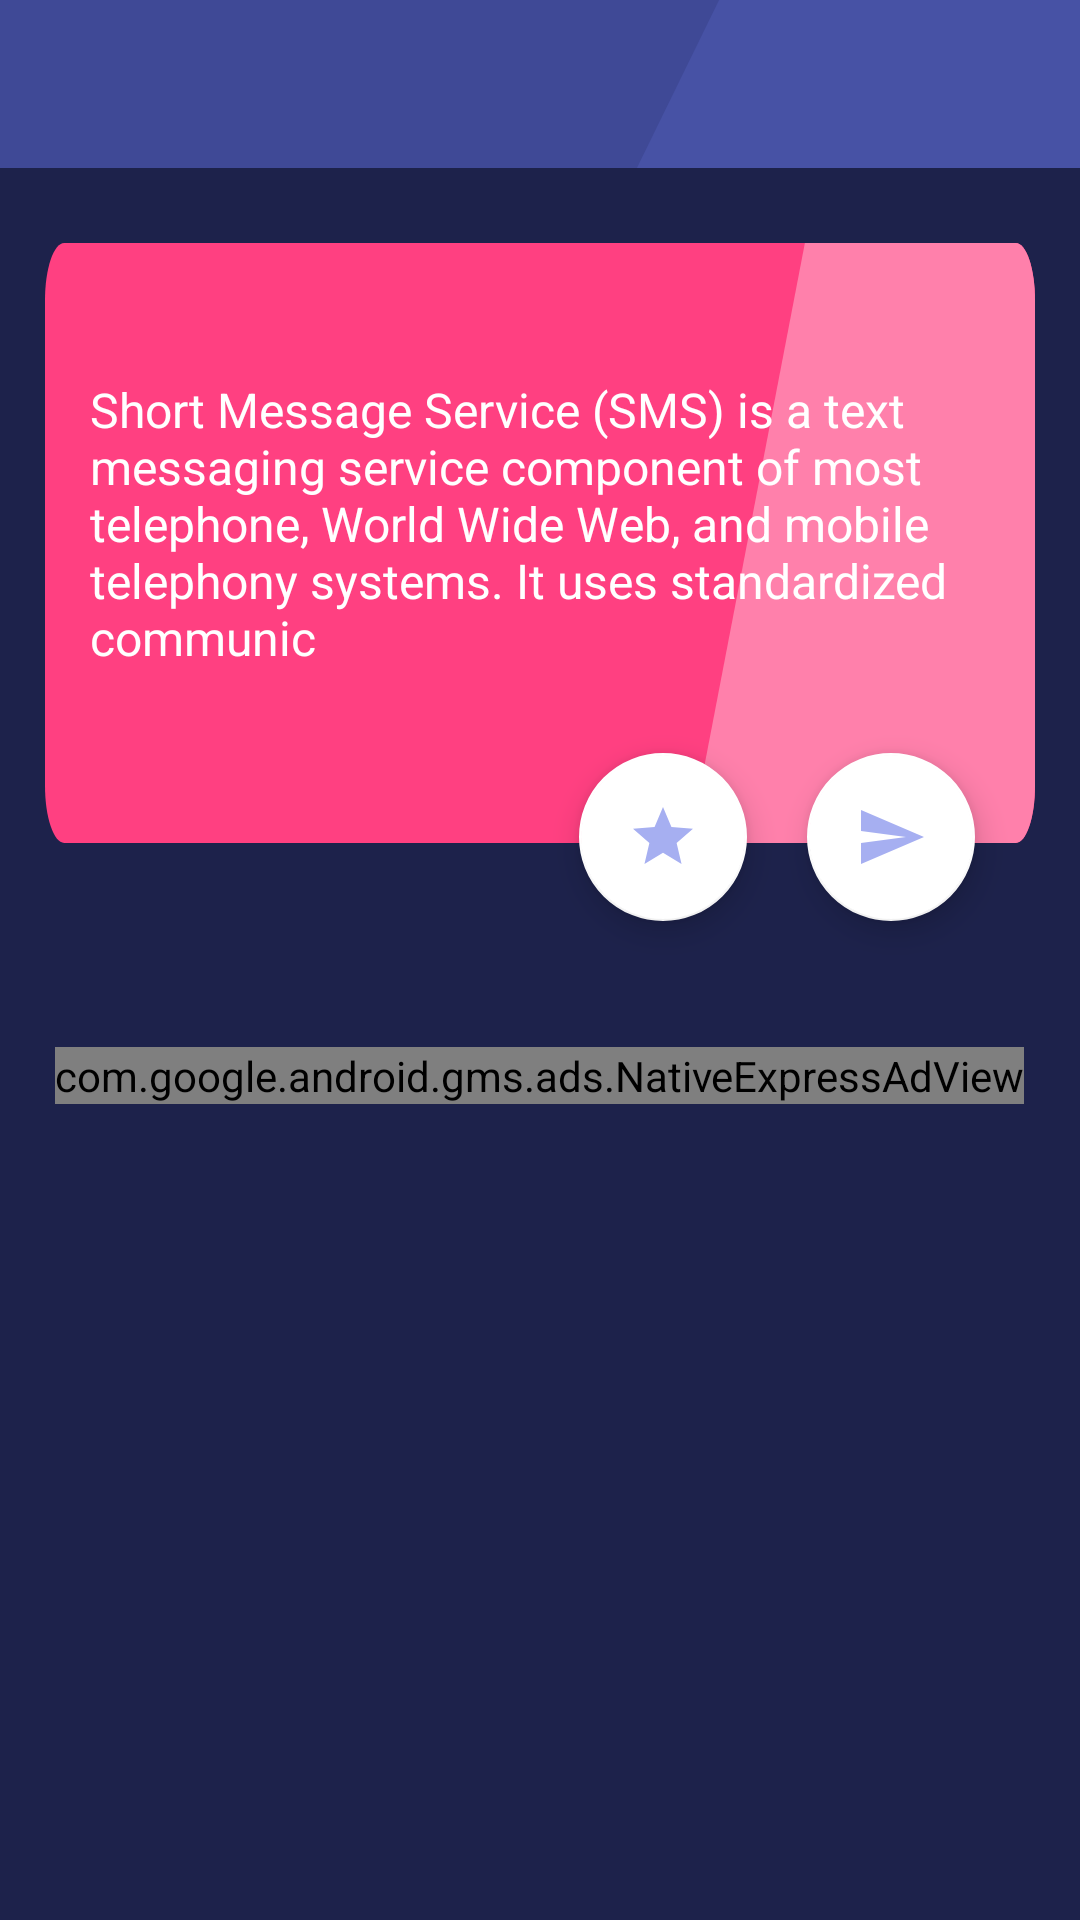

Icons on this 1080×1920 Android screen, each with the point to tap as [x,y]:
send: [891,837]
star: [663,837]
